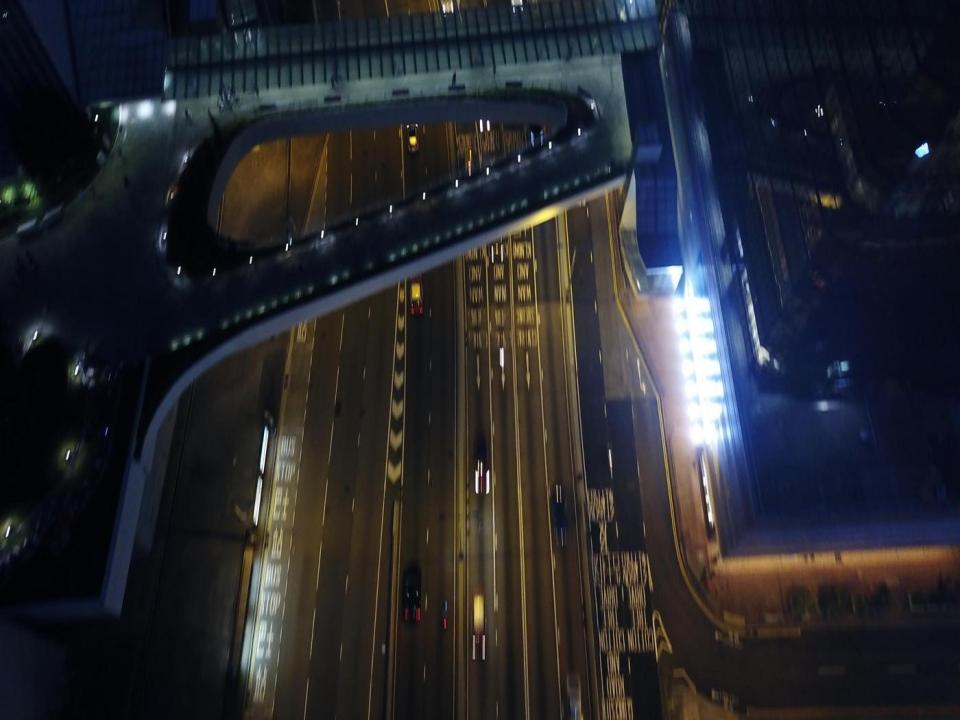car: (470, 594, 487, 659), (552, 485, 569, 549), (474, 431, 490, 494), (566, 672, 582, 718), (410, 258, 423, 314), (477, 83, 490, 132), (491, 217, 503, 262), (406, 116, 418, 152), (440, 1, 453, 19)
van: (403, 564, 421, 620)
